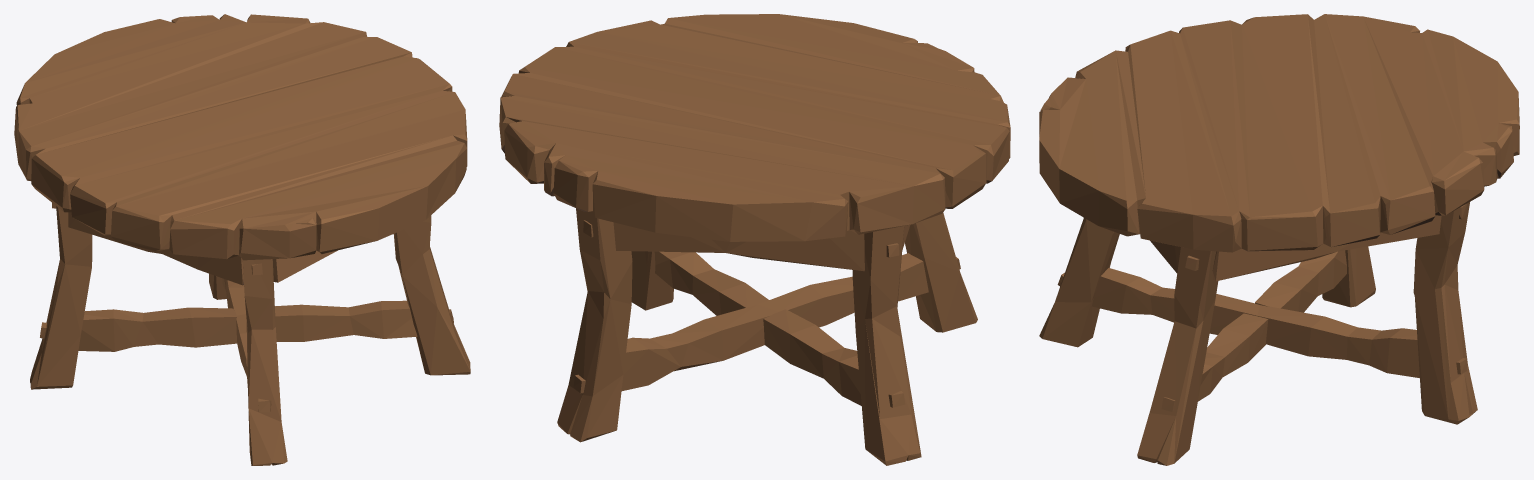
The model's file is RoundTable.glb.
3 views of the same model, side by side, from view 1: azimuth 30°, elevation 25°; view 2: azimuth 150°, elevation 25°; view 3: azimuth 270°, elevation 25° (orthographic). The views are drawn at different scales.
Visible parts, largest first — view 1: RoundTable; view 2: RoundTable; view 3: RoundTable.
Part boxes in pixels (bbox=[...]): RoundTable: bbox=[14, 14, 470, 465]; RoundTable: bbox=[499, 14, 1010, 465]; RoundTable: bbox=[1039, 14, 1519, 465].
Bounding box in the file's own units: 1.18 × 0.7527 × 1.19.
